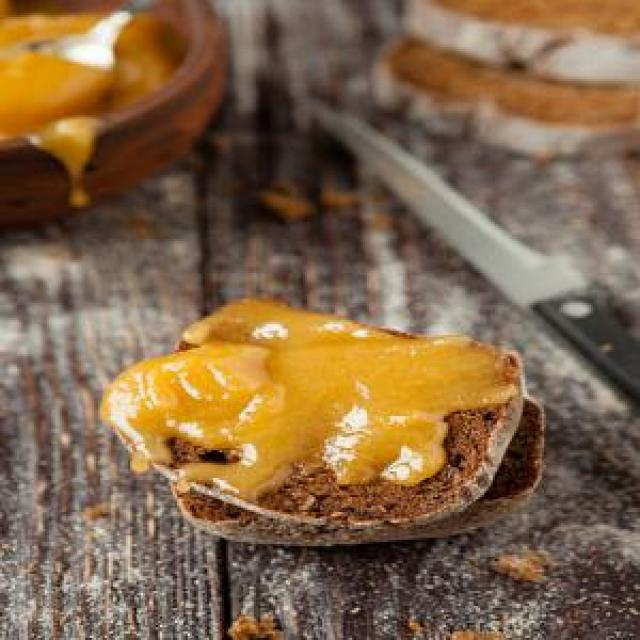knife: (305, 96, 639, 404)
